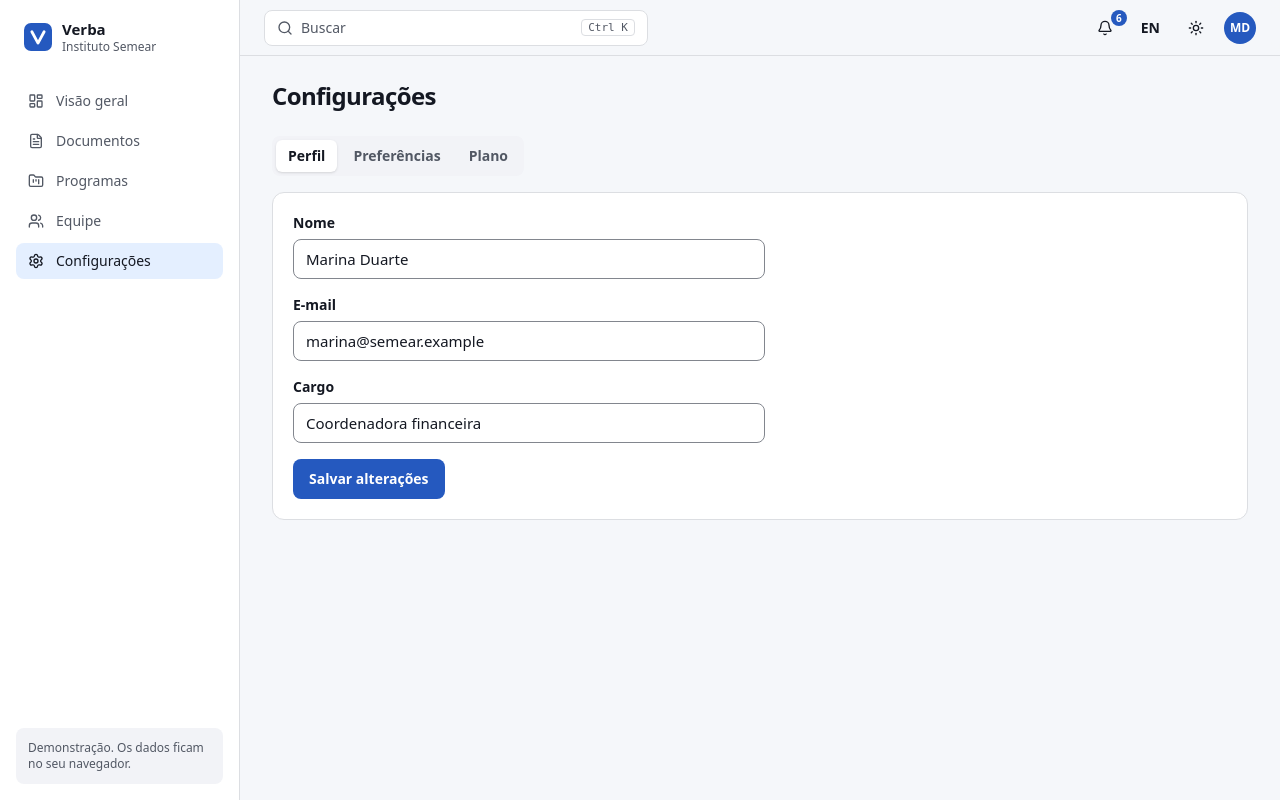
preferences › saves the profile and announces it
Clear the field labelled "Nome". click: coordinates (529, 259)
box: [293,239,765,279]
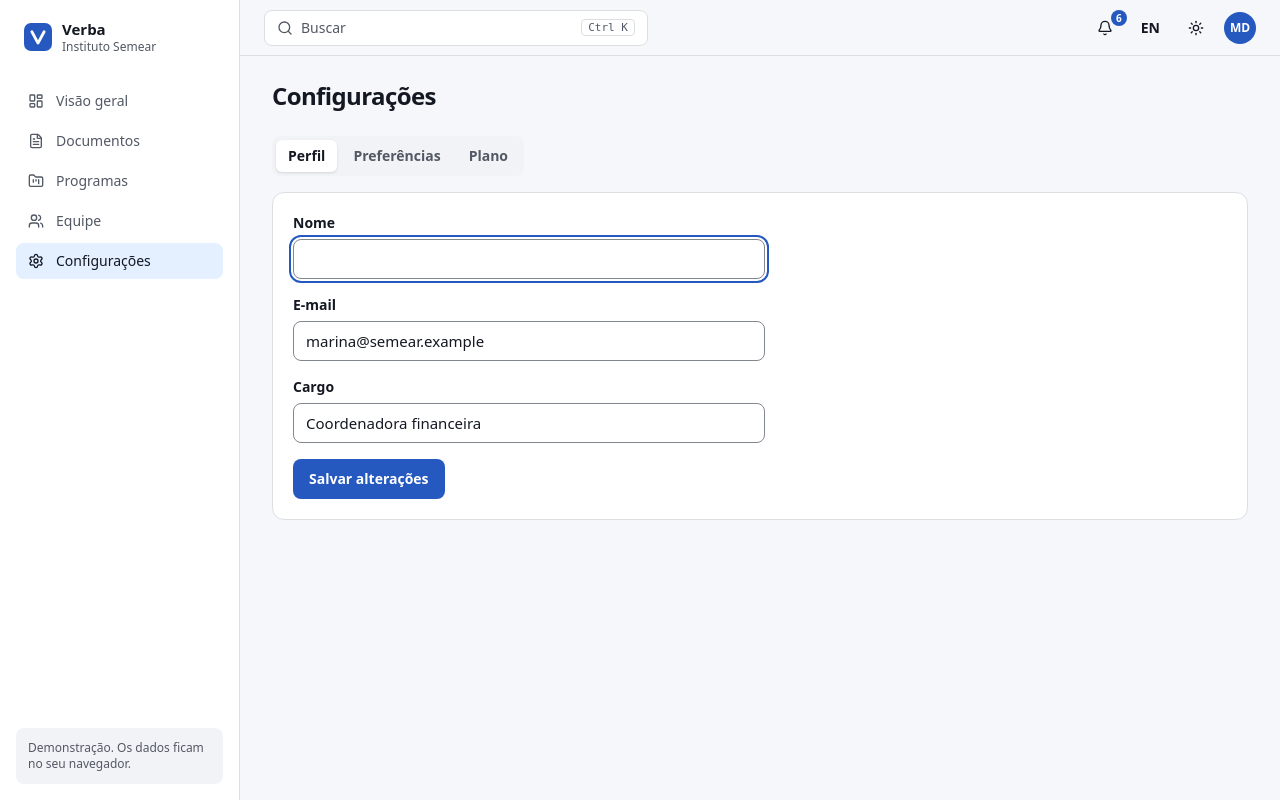
Click the button "Salvar alterações". click: coordinates (369, 479)
box: [293,459,445,499]
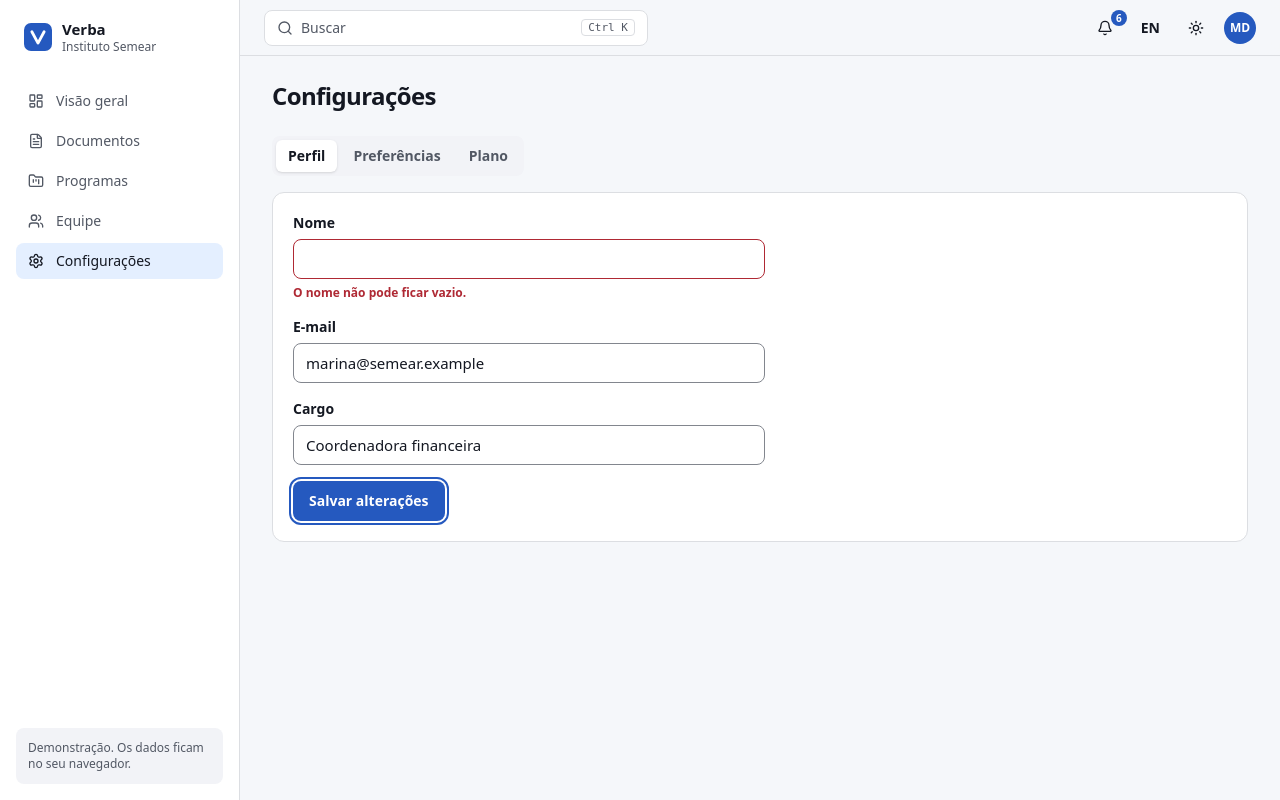
Type "Marina Duarte Silva" into the field labelled "Nome". click: coordinates (529, 259)
box: [293,239,765,279]
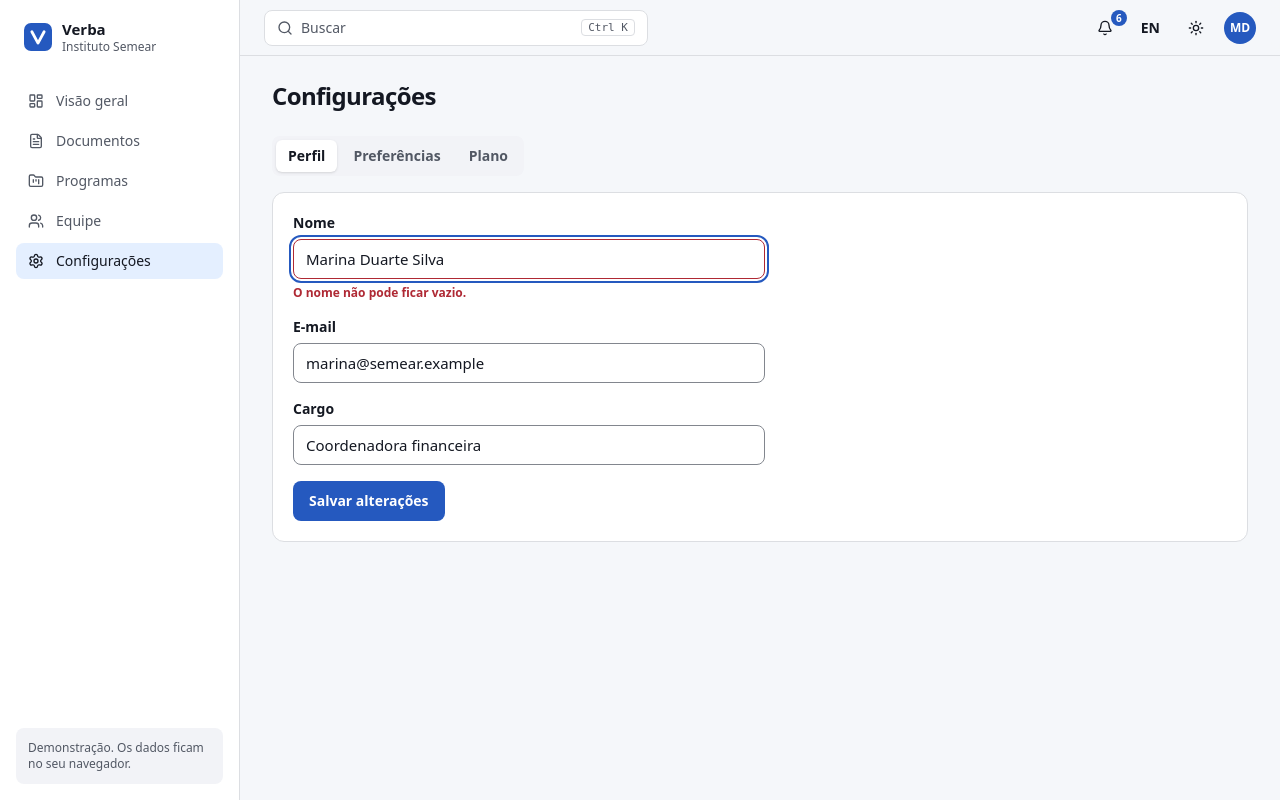
Click the button "Salvar alterações". click: coordinates (369, 501)
box: [293,481,445,521]
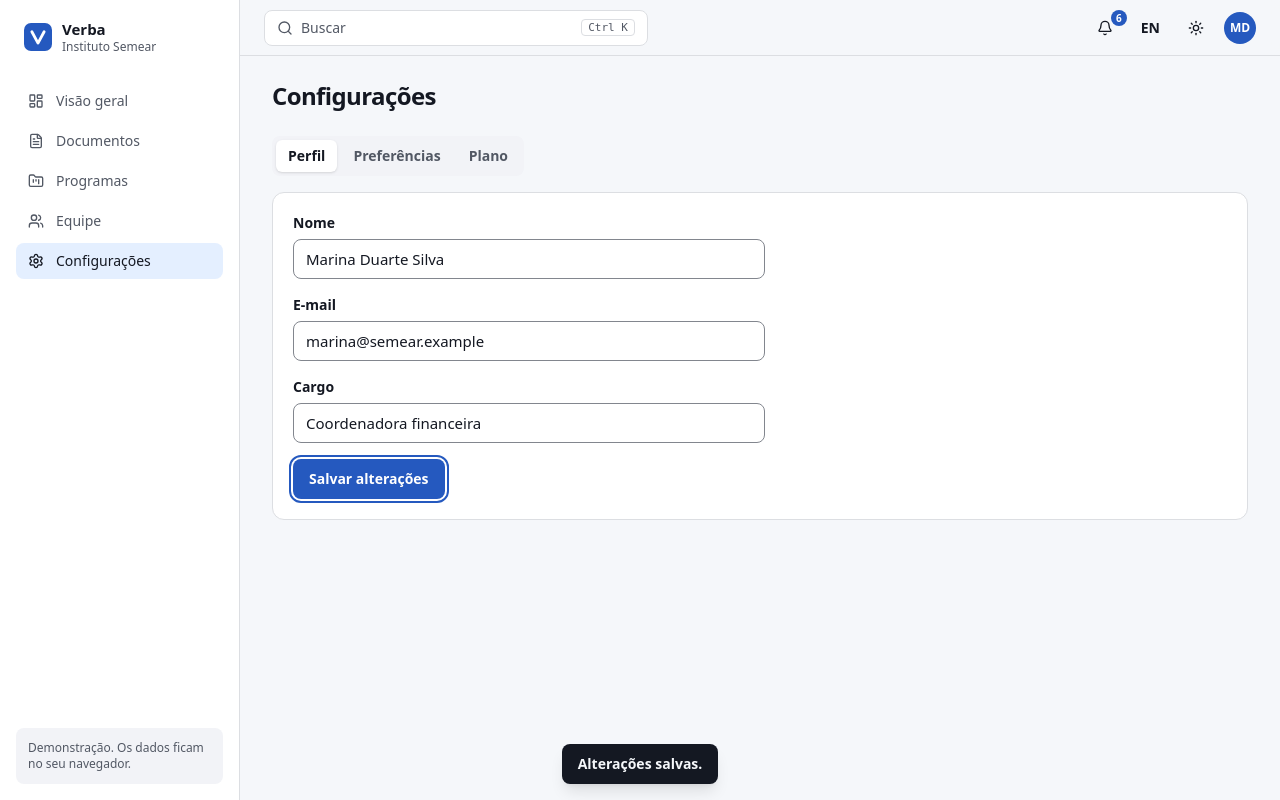
Expected: the text "Alterações salvas." is shown, [562,744,718,784]
